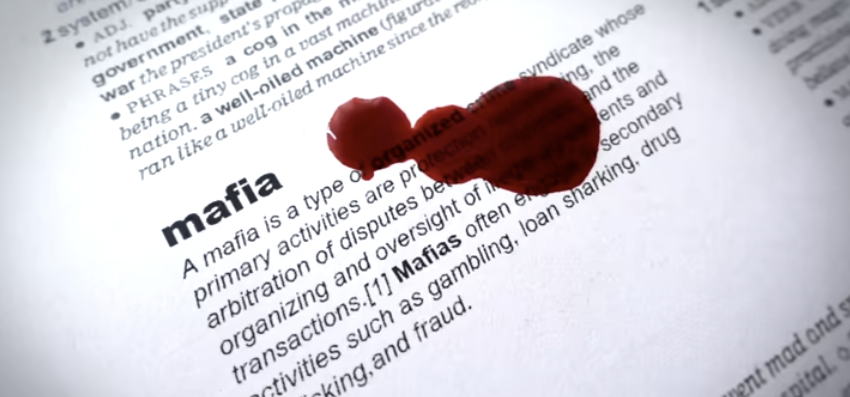blood_33.png: (309, 73, 609, 203)
